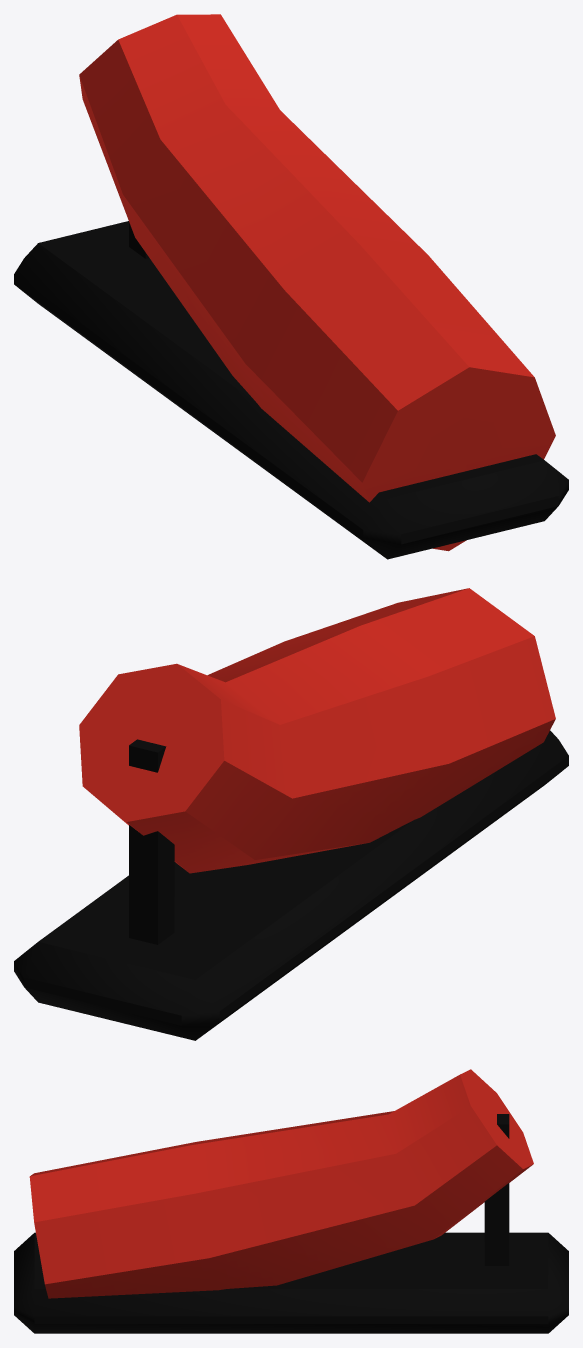
File: mall-shoe-pump.glb
3 renders of one model, top to bottom at view 1: azimuth 30°, elevation 25°; view 2: azimuth 150°, elevation 25°; view 3: azimuth 270°, elevation 25°, orthographic. The views are drawn at different scales.
Visible parts, largest first — view 1: upper__leather, sole__rubber; view 2: upper__leather, sole__rubber; view 3: upper__leather, sole__rubber.
Part boxes in pixels (bbox=[...]): upper__leather: bbox=[79, 14, 555, 551]; sole__rubber: bbox=[14, 221, 568, 559]; upper__leather: bbox=[79, 588, 555, 873]; sole__rubber: bbox=[14, 730, 568, 1040]; upper__leather: bbox=[29, 1069, 533, 1298]; sole__rubber: bbox=[14, 1114, 568, 1333].
Bounding box in the file's own units: 0.085 × 0.1333 × 0.27.
